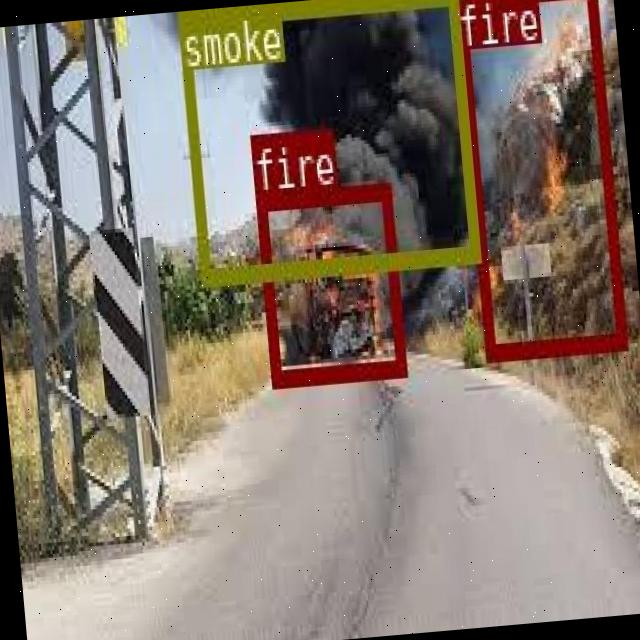fire: (452, 0, 625, 356), (254, 180, 406, 384)
smoke: (174, 0, 477, 284)
